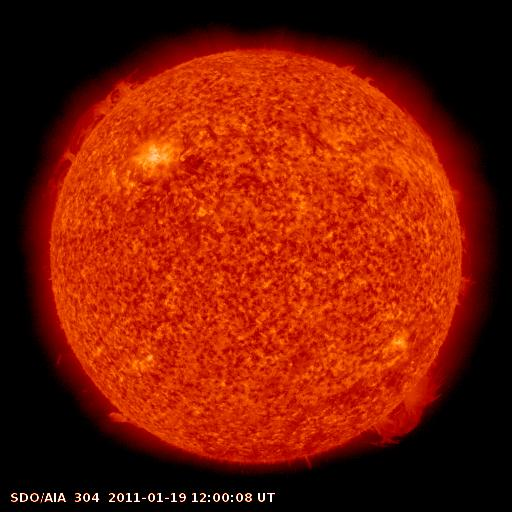prominence: (39, 60, 158, 195), (353, 363, 460, 455), (448, 184, 480, 310), (83, 393, 152, 439), (327, 45, 385, 97)
